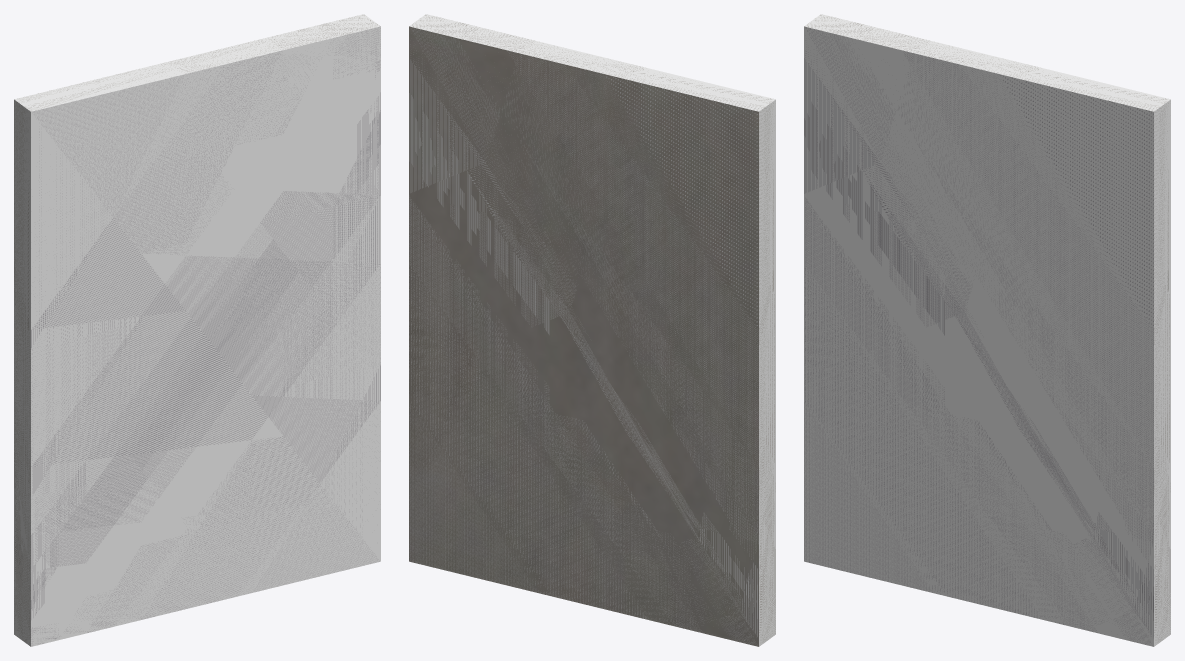
Rendered from pizza_box.obj.
3 views of the same model, side by side, from view 1: azimuth 30°, elevation 25°; view 2: azimuth 150°, elevation 25°; view 3: azimuth 330°, elevation 25° (orthographic).
Visible parts, largest first — view 1: pizza_box; view 2: pizza_box; view 3: pizza_box.
Part boxes in pixels (<box>): pizza_box: <box>14,14,380,646</box>; pizza_box: <box>409,14,775,646</box>; pizza_box: <box>804,14,1170,646</box>.
Bounding box in the file's own units: 0.4103 × 0.5995 × 0.0346.
7 materials, 6 textured.
